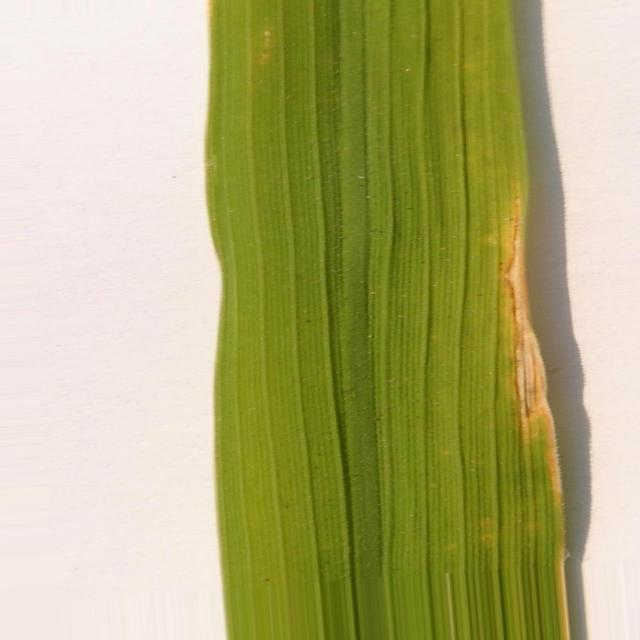Bacterial_Leaf_Blight: (501, 198, 570, 640)
